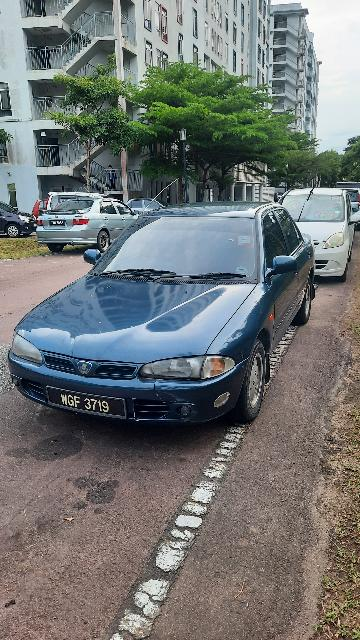License_Plate: (40, 378, 136, 428)
car: (8, 195, 320, 431)
